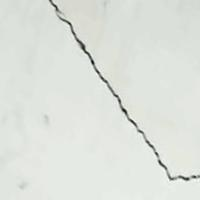crack: (47, 0, 199, 185)
